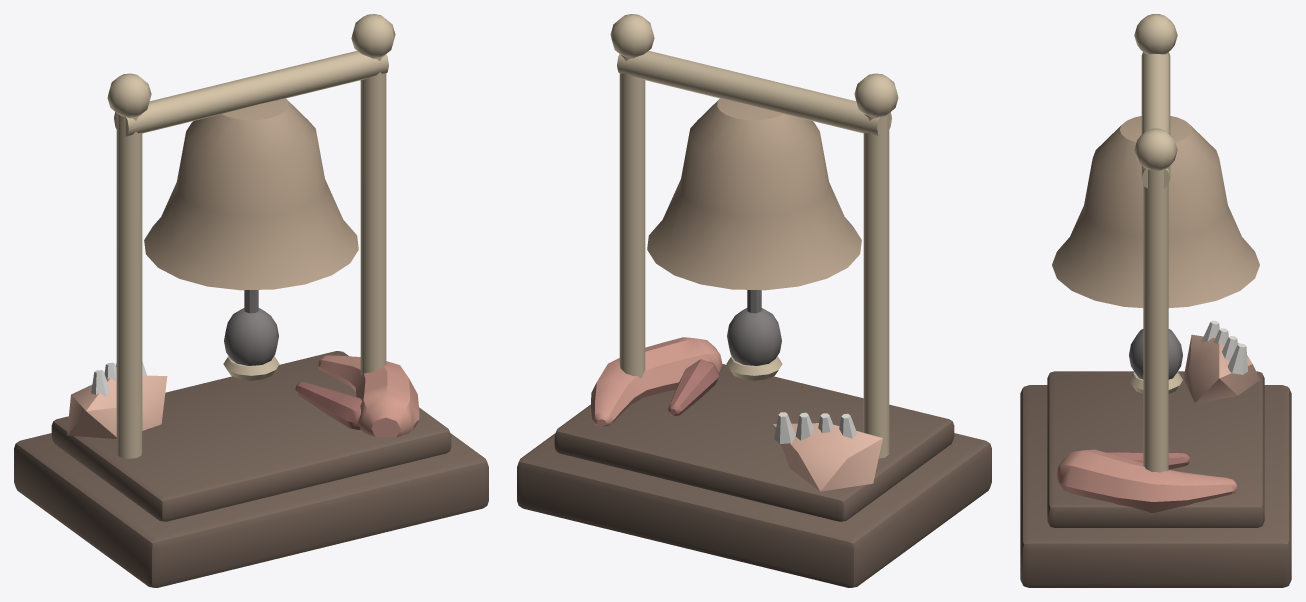
The model's file is trophy_bell_clapper.gltf.
3 renders of one model, left to right at view 1: azimuth 30°, elevation 25°; view 2: azimuth 150°, elevation 25°; view 3: azimuth 270°, elevation 25°, orthographic. The views are drawn at different scales.
Visible parts, largest first — view 1: Body; view 2: Body; view 3: Body.
Boxes of the visible parts, x1,y1,x2,y2 form: Body: (14, 14, 488, 587); Body: (517, 14, 991, 587); Body: (1020, 14, 1291, 587).
Size of the model in its own units: 0.42 by 0.534 by 0.3.
